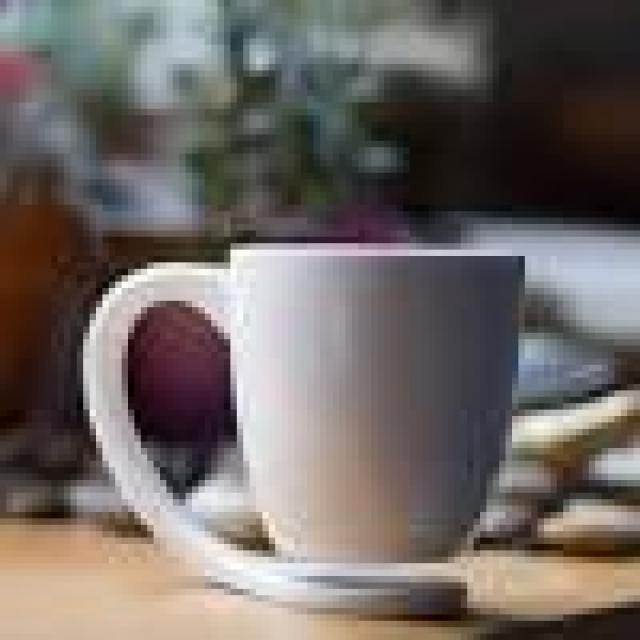taza: (70, 224, 534, 623)
